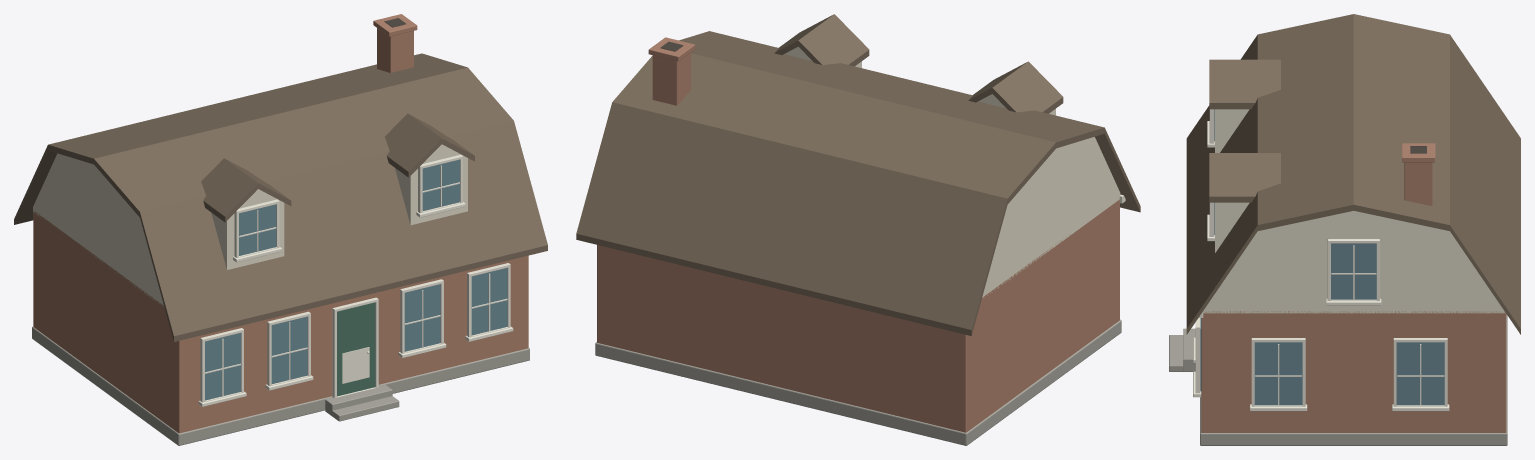
Rendered from medium_dutch_colonial.glb.
3 renders of one model, left to right at view 1: azimuth 30°, elevation 25°; view 2: azimuth 150°, elevation 25°; view 3: azimuth 270°, elevation 25°, orthographic. The views are drawn at different scales.
Parts seen in each view (by area): view 1: Dutch colonial broad gambrel roof, Dutch colonial closed lower brick body, Dutch colonial closed gambrel loft, Dutch colonial foundation, Dutch front dormer closed pitched roof.001, Dutch front dormer closed pitched roof, Dutch colonial central door inset pane, Dutch colonial lower sash inset pane.001, Dutch colonial lower sash inset pane.002, Dutch colonial lower sash inset pane.003, Dutch colonial lower sash inset pane, Dutch front dormer closed gabled walls (+8 smaller); view 2: Dutch colonial broad gambrel roof, Dutch colonial closed lower brick body, Dutch colonial closed gambrel loft, Dutch colonial foundation, Dutch front dormer closed pitched roof, Dutch front dormer closed pitched roof.001, Dutch right chimney chimney shaft, Dutch right chimney chimney cap; view 3: Dutch colonial broad gambrel roof, Dutch colonial closed lower brick body, Dutch colonial closed gambrel loft, Dutch colonial foundation, Dutch front dormer closed pitched roof, Dutch front dormer closed pitched roof.001, Dutch right-side sash inset pane.001, Dutch right-side sash inset pane, Dutch side loft sash inset pane, Dutch right chimney chimney shaft, Dutch front dormer closed gabled walls.001, Dutch front dormer closed gabled walls (+6 smaller).
Part boxes in pixels (x1,y1,x2,y2): Dutch colonial broad gambrel roof: (14,53,547,341); Dutch colonial closed lower brick body: (33,211,528,433); Dutch colonial closed gambrel loft: (33,153,163,305); Dutch colonial foundation: (32,326,529,445); Dutch front dormer closed pitched roof.001: (385,113,474,177); Dutch front dormer closed pitched roof: (201,158,291,222); Dutch colonial central door inset pane: (337,302,375,396); Dutch colonial lower sash inset pane.001: (271,316,307,383); Dutch colonial lower sash inset pane.002: (404,284,440,351); Dutch colonial lower sash inset pane.003: (471,268,507,335); Dutch colonial lower sash inset pane: (205,333,240,400); Dutch front dormer closed gabled walls: (211,189,284,269); Dutch colonial broad gambrel roof: (576,31,1140,335); Dutch colonial closed lower brick body: (597,200,1119,432); Dutch colonial closed gambrel loft: (982,137,1120,297); Dutch colonial foundation: (595,319,1121,445); Dutch front dormer closed pitched roof: (968,61,1063,113); Dutch front dormer closed pitched roof.001: (774,14,869,66); Dutch right chimney chimney shaft: (652,52,691,105); Dutch right chimney chimney cap: (648,37,695,61); Dutch colonial broad gambrel roof: (1186,14,1520,334); Dutch colonial closed lower brick body: (1201,311,1506,432); Dutch colonial closed gambrel loft: (1203,211,1505,313); Dutch colonial foundation: (1200,314,1507,445); Dutch front dormer closed pitched roof: (1209,59,1280,109); Dutch front dormer closed pitched roof.001: (1209,153,1280,202); Dutch right-side sash inset pane.001: (1396,342,1444,405); Dutch right-side sash inset pane: (1254,342,1302,405); Dutch side loft sash inset pane: (1331,243,1376,299); Dutch right chimney chimney shaft: (1404,162,1432,206); Dutch front dormer closed gabled walls.001: (1215,202,1249,252); Dutch front dormer closed gabled walls: (1215,109,1249,152).
Bounding box in the file's own units: 10.8 × 7.42 × 8.42.
